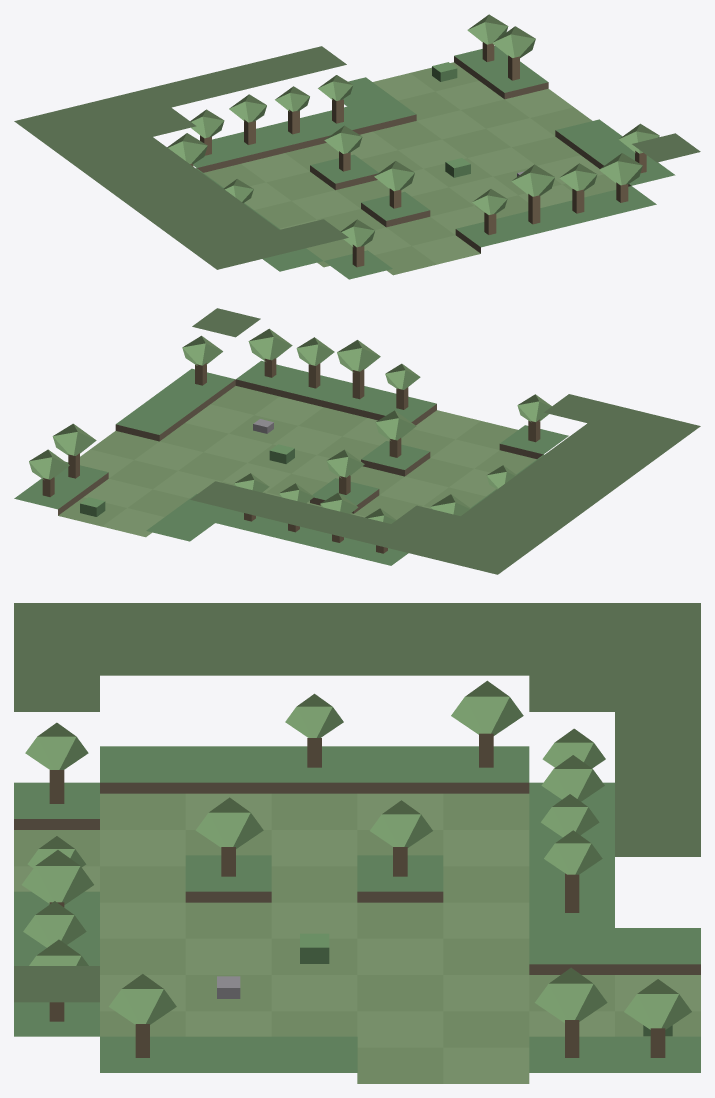
3 views of the same model, one above another, from view 1: azimuth 30°, elevation 25°; view 2: azimuth 150°, elevation 25°; view 3: azimuth 270°, elevation 25° (orthographic). The views are drawn at different scales.
Visible parts, largest first — view 1: mesh0; view 2: mesh0; view 3: mesh0.
Part boxes in pixels (box(x1,y1,x2,y2)): mesh0: box(14, 14, 700, 279); mesh0: box(14, 308, 700, 574); mesh0: box(14, 603, 700, 1083).
Size of the model in its own units: 11 by 1.38 by 8.
